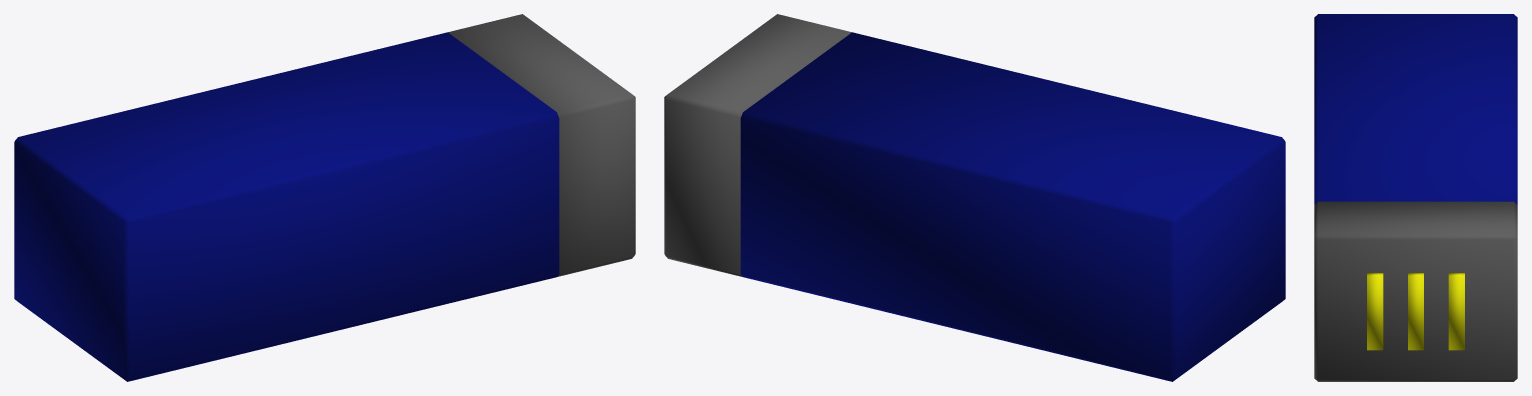
File: battery_blue.dae
The picture shows the model from 3 angles, left to right: view 1: azimuth 30°, elevation 25°; view 2: azimuth 150°, elevation 25°; view 3: azimuth 270°, elevation 25°; orthographic projection. The views are drawn at different scales.
Visible parts, largest first — view 1: battery_base; view 2: battery_base; view 3: battery_base.
Part boxes in pixels (x1,y1,x2,y2): battery_base: (14, 14, 635, 381); battery_base: (664, 14, 1285, 381); battery_base: (1314, 14, 1517, 381).
Bounding box in the file's own units: 0.132 × 0.05 × 0.04.
